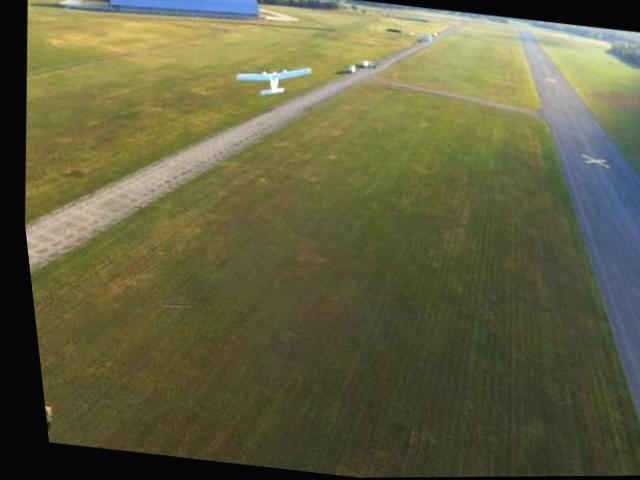uav: (231, 56, 312, 102)
